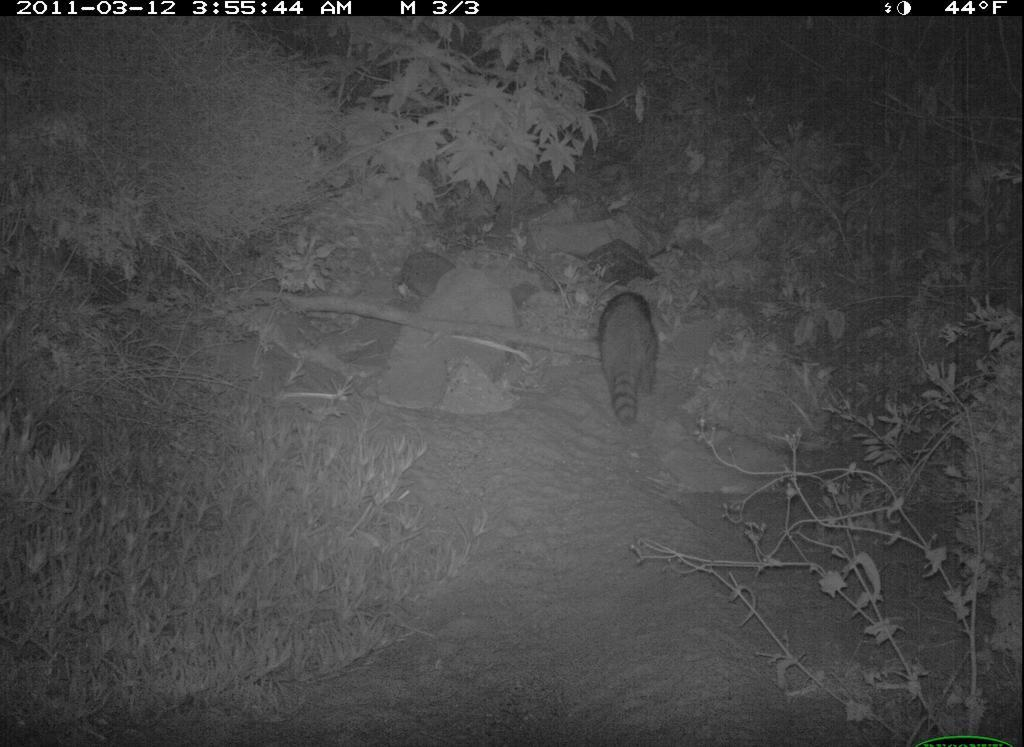raccoon: (596, 285, 670, 428)
